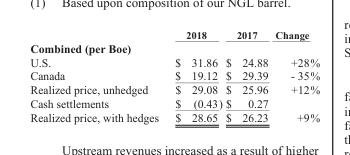table: (29, 29, 319, 123)
table column: (29, 29, 166, 123), (166, 29, 223, 123), (223, 29, 271, 123), (271, 29, 319, 123)
table column header: (29, 29, 319, 40)
table projected row header: (29, 40, 319, 54)
table row: (29, 40, 319, 54), (29, 54, 319, 68), (29, 68, 319, 82), (29, 82, 319, 96), (29, 96, 319, 110), (29, 110, 319, 123), (29, 29, 319, 40)
